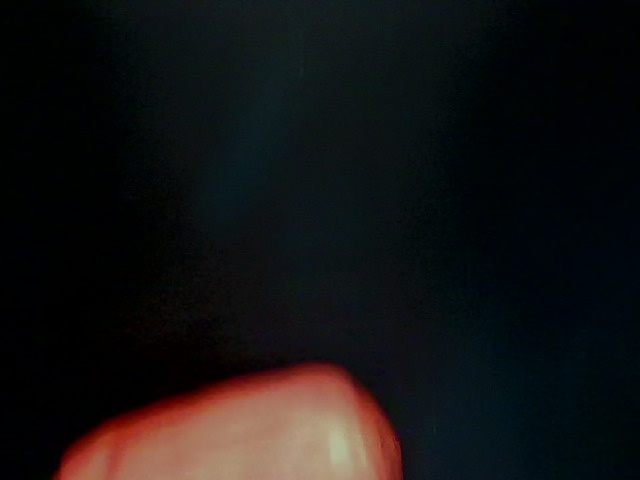YHLJ: (110, 70, 363, 164)
